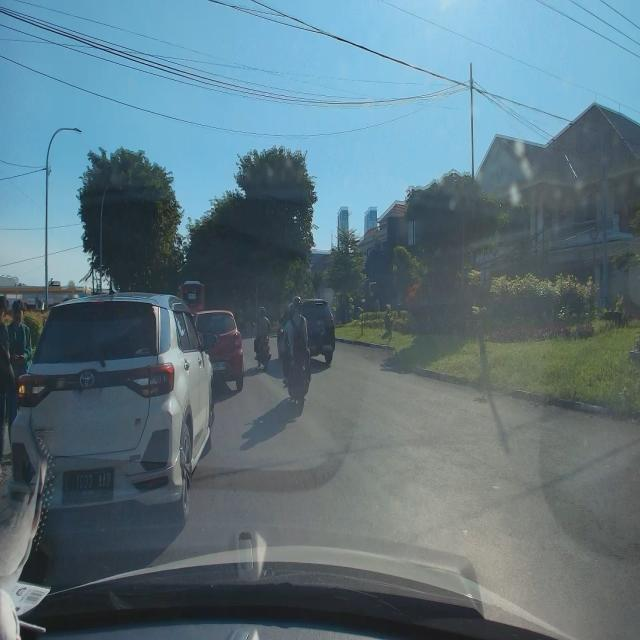car: (5, 289, 217, 532), (190, 306, 245, 392), (274, 296, 337, 364)
license-plate: (62, 468, 114, 501)
